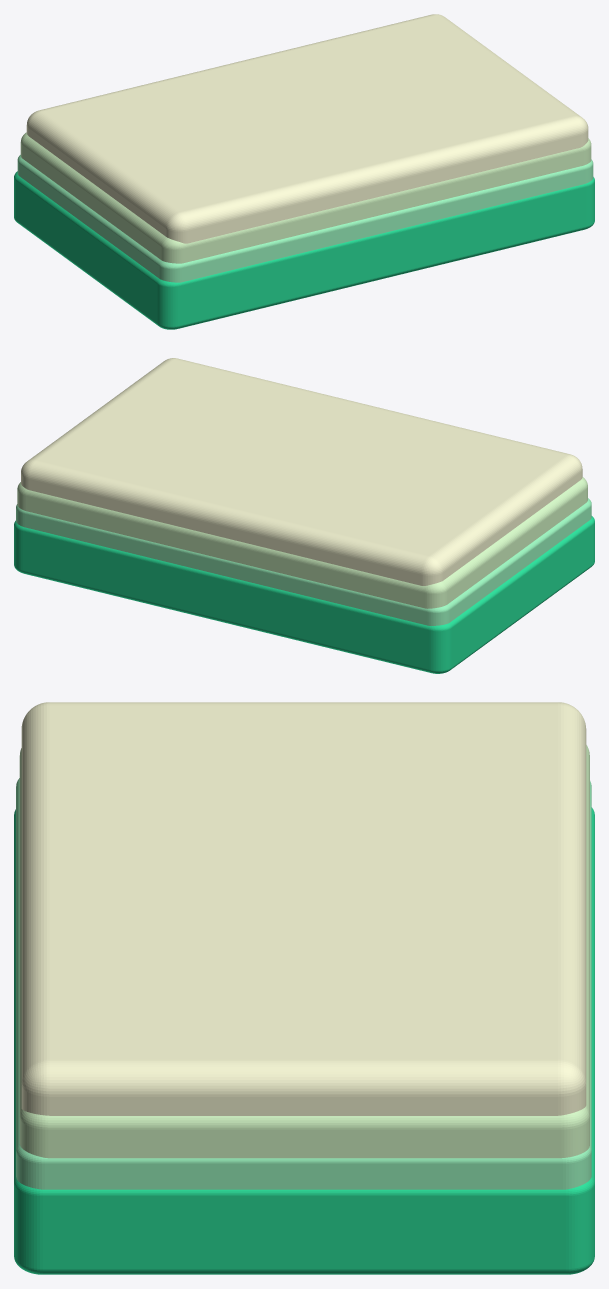
The model's file is boloretangulo cobertura floresta.glb.
3 renders of one model, top to bottom at view 1: azimuth 30°, elevation 25°; view 2: azimuth 150°, elevation 25°; view 3: azimuth 270°, elevation 25°, orthographic. The views are drawn at different scales.
Visible parts, largest first — view 1: Cube.003, Cube.002, Cube.000, Cube.001; view 2: Cube.003, Cube.002, Cube.000, Cube.001; view 3: Cube.003, Cube.002, Cube.000, Cube.001.
Part boxes in pixels (<box>): Cube.003: <box>26,14,588,243</box>; Cube.002: <box>14,171,594,329</box>; Cube.000: <box>20,132,591,263</box>; Cube.001: <box>17,155,593,282</box>; Cube.003: <box>21,358,582,585</box>; Cube.002: <box>14,516,594,673</box>; Cube.000: <box>17,477,587,608</box>; Cube.001: <box>16,498,591,625</box>; Cube.003: <box>21,702,586,1115</box>; Cube.002: <box>14,807,594,1274</box>; Cube.000: <box>19,745,589,1158</box>; Cube.001: <box>16,778,591,1189</box>.
Size of the model in its own units: 3.43 by 0.8379 by 2.14.
